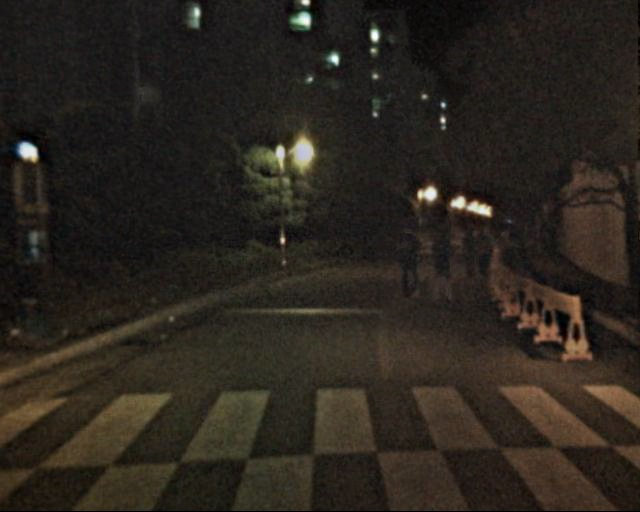person: (425, 227, 458, 308), (392, 225, 425, 305), (459, 230, 482, 286), (471, 232, 493, 286)
